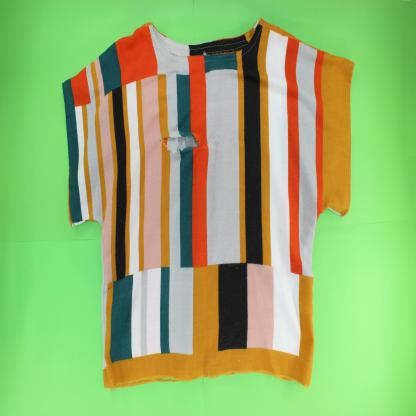hole: (157, 131, 205, 158)
